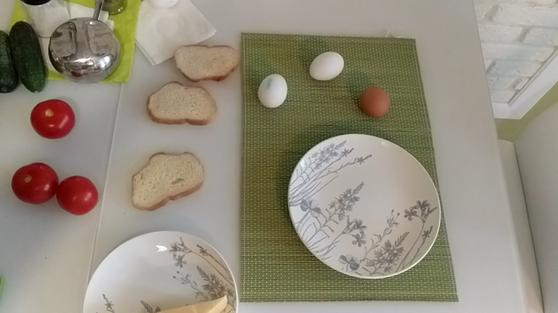cheese: (169, 292, 231, 313)
egg: (308, 52, 347, 82), (259, 73, 286, 110), (359, 85, 390, 117)
tomato: (53, 173, 99, 216), (29, 98, 77, 138), (12, 165, 57, 198)
white_bread: (130, 147, 206, 210), (148, 80, 218, 126), (171, 47, 239, 79)
